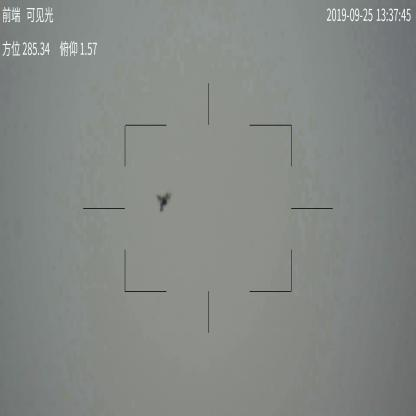uav: (158, 188, 177, 214)
